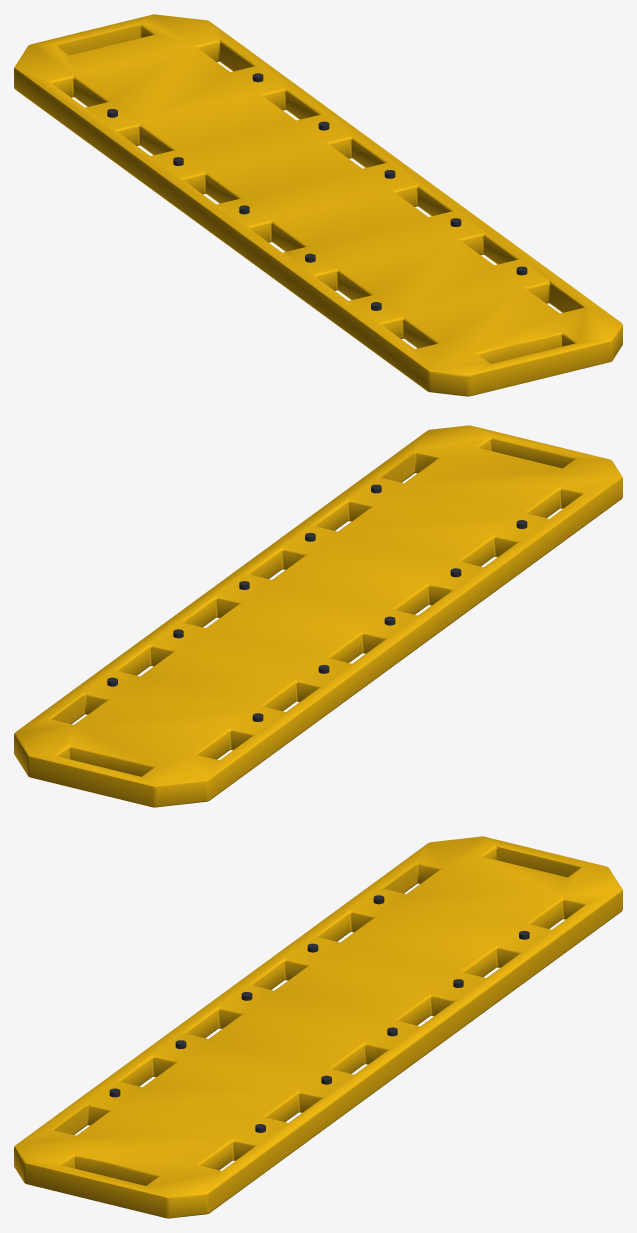
The model's file is board.glb.
3 views of the same model, one above another, from view 1: azimuth 30°, elevation 25°; view 2: azimuth 150°, elevation 25°; view 3: azimuth 330°, elevation 25° (orthographic).
Parts seen in each view (by area): view 1: board; view 2: board; view 3: board.
Boxes of the visible parts, left/top/right/bottom form: board: left=14, top=14, right=622, bottom=396; board: left=14, top=425, right=622, bottom=807; board: left=14, top=836, right=622, bottom=1218.
Size of the model in its own units: 0.46 by 0.06 by 1.84.
